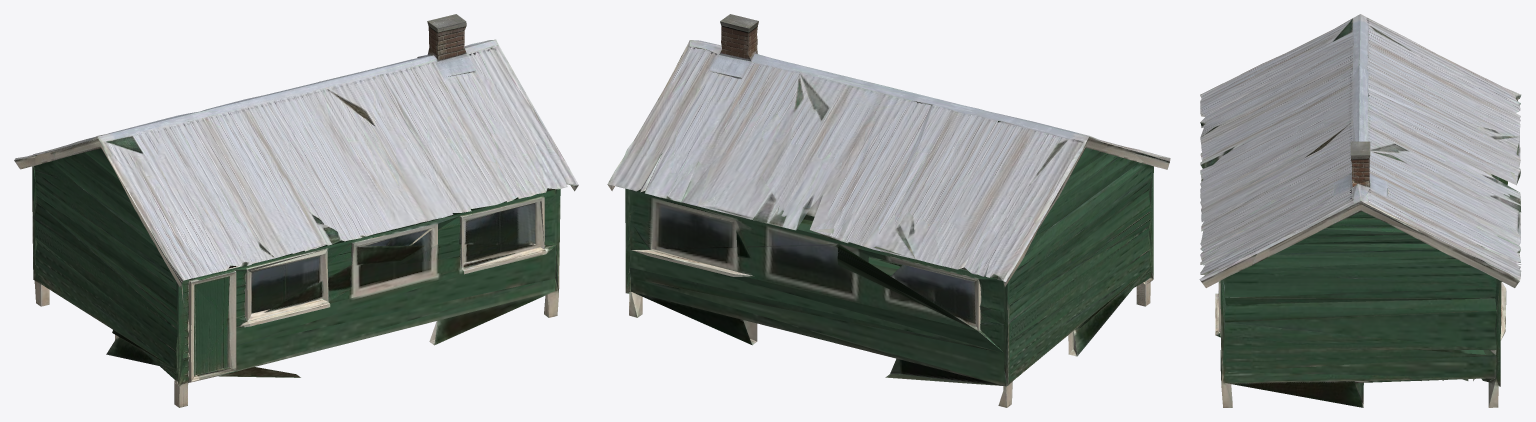
File: ski_lodge.glb
3 renders of one model, left to right at view 1: azimuth 30°, elevation 25°; view 2: azimuth 150°, elevation 25°; view 3: azimuth 270°, elevation 25°, orthographic. The views are drawn at different scales.
Parts seen in each view (by area): view 1: ground; view 2: ground; view 3: ground.
Part boxes in pixels (left/top/right/bottom): ground: left=14, top=14, right=578, bottom=407; ground: left=607, top=14, right=1170, bottom=407; ground: left=1199, top=14, right=1521, bottom=407.
Size of the model in its own units: 11.6 by 6.98 by 8.45.
1 material, 1 textured.
